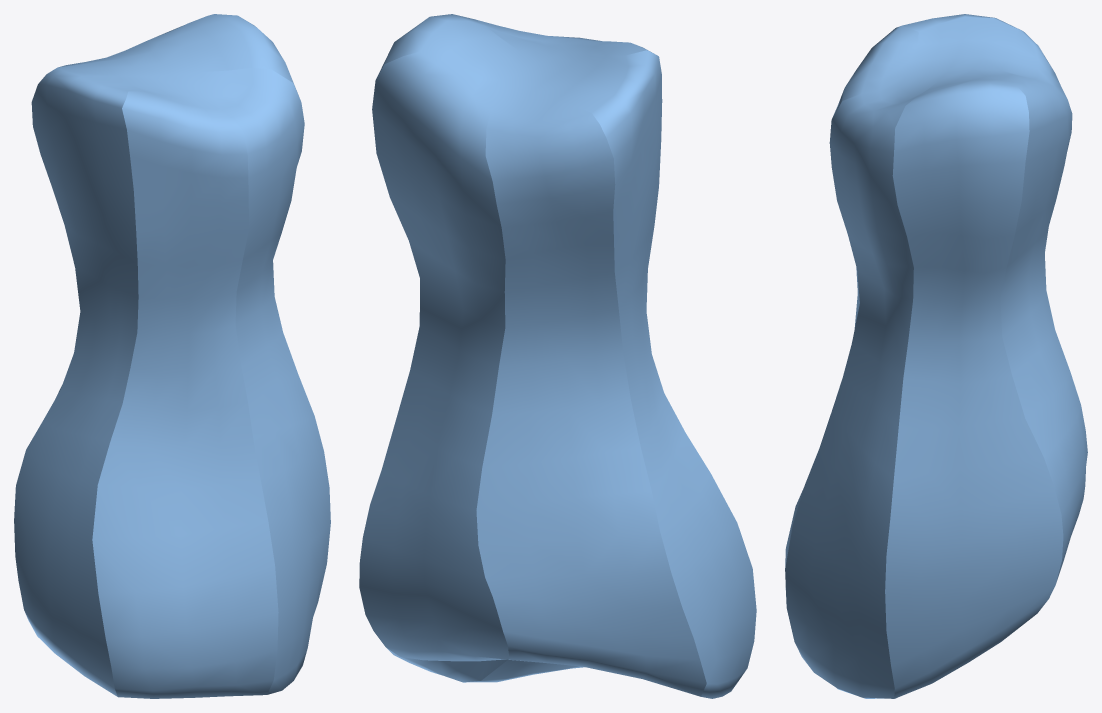
File: arm_LeftArm.glb
3 views of the same model, side by side, from view 1: azimuth 30°, elevation 25°; view 2: azimuth 150°, elevation 25°; view 3: azimuth 270°, elevation 25° (orthographic). The views are drawn at different scales.
Visible parts, largest first — view 1: mixamorig:LeftArm; view 2: mixamorig:LeftArm; view 3: mixamorig:LeftArm.
Part boxes in pixels (<box>): mixamorig:LeftArm: <box>14,14,330,698</box>; mixamorig:LeftArm: <box>359,14,756,698</box>; mixamorig:LeftArm: <box>785,14,1087,698</box>.
Size of the model in its own units: 0.1392 by 0.2959 by 0.1325.
